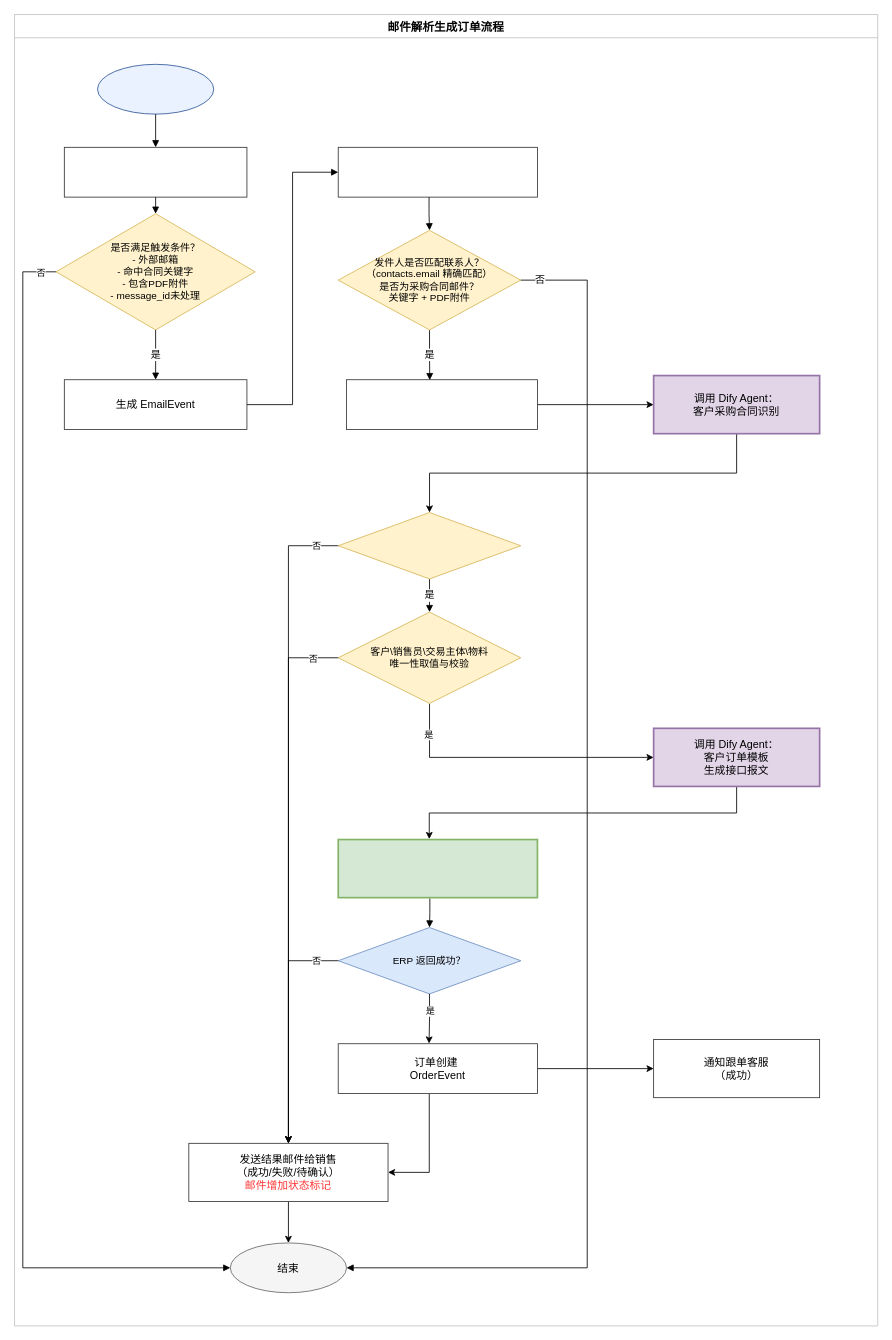
Image size: 892x1340. Some labels were removed from this diagram. The shapes that lost their labels are listed below. From the top down, each one's centre as x and y in pixels, then its label:
(x=155, y=88): 开始（新邮件到达）
(x=155, y=171): 接收新邮件（销售邮箱）
(x=437, y=171): ERP 接口： 加载主数据快照 customers / contacts / products
(x=441, y=404): 上传PDF至文件服务器 得到 file_url + sha256
(x=429, y=545): 合同解析是否成功？
(x=437, y=868): ERP 接口：创建销售订单 （附件 ID 也要写到订单相关接口）
